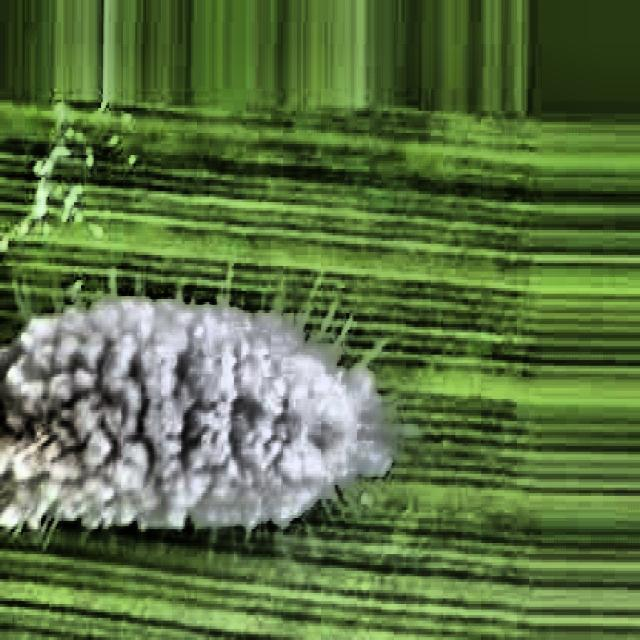Mealy-bug: (3, 252, 408, 568)
